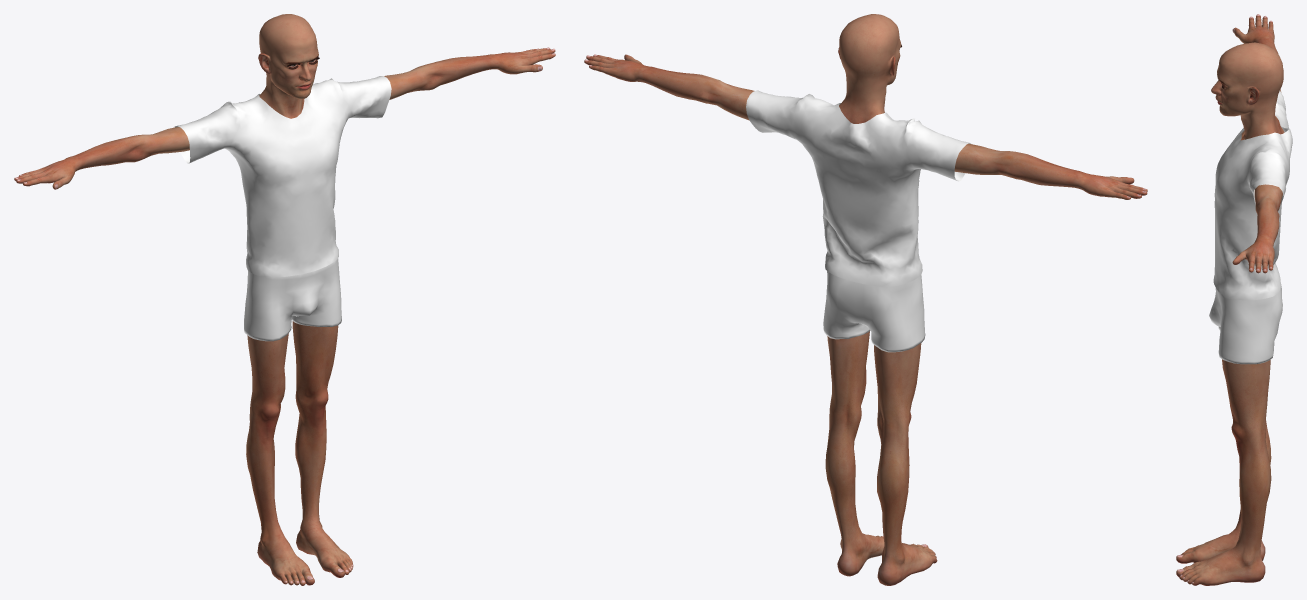
3 views of the same model, side by side, from view 1: azimuth 30°, elevation 25°; view 2: azimuth 150°, elevation 25°; view 3: azimuth 270°, elevation 25° (orthographic). The views are drawn at different scales.
Parts seen in each view (by area): view 1: CC_Base_Body, Pattern2D_1872919, Boxers, Pattern2D_2639937, Pattern2D_2639936, Pattern2D_1872920; view 2: CC_Base_Body, Pattern2D_1872920, Boxers, Pattern2D_2639937, Pattern2D_2639936; view 3: CC_Base_Body, Pattern2D_1872919, Boxers, Pattern2D_1872920, Pattern2D_2639936.
Boxes of the visible parts, x1,y1,x2,y2 form: CC_Base_Body: (14, 14, 555, 585); Pattern2D_1872919: (230, 80, 346, 277); Boxers: (244, 258, 341, 341); Pattern2D_2639937: (174, 101, 241, 163); Pattern2D_2639936: (329, 76, 391, 120); Pattern2D_1872920: (226, 80, 330, 271); CC_Base_Body: (584, 14, 1147, 585); Pattern2D_1872920: (795, 97, 918, 286); Boxers: (823, 271, 925, 352); Pattern2D_2639937: (902, 118, 970, 181); Pattern2D_2639936: (746, 90, 814, 139); CC_Base_Body: (1176, 14, 1284, 585); Pattern2D_1872919: (1213, 128, 1269, 300); Boxers: (1209, 282, 1282, 364); Pattern2D_1872920: (1248, 104, 1292, 300); Pattern2D_2639936: (1246, 150, 1286, 205).
Size of the model in its own units: 1.84 by 1.76 by 0.3524.
Materials: 18 (13 with a texture image).
